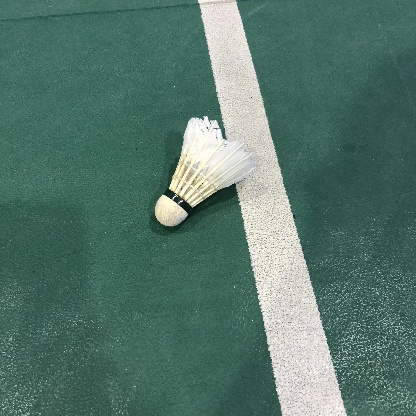ball_single: (155, 116, 256, 226)
